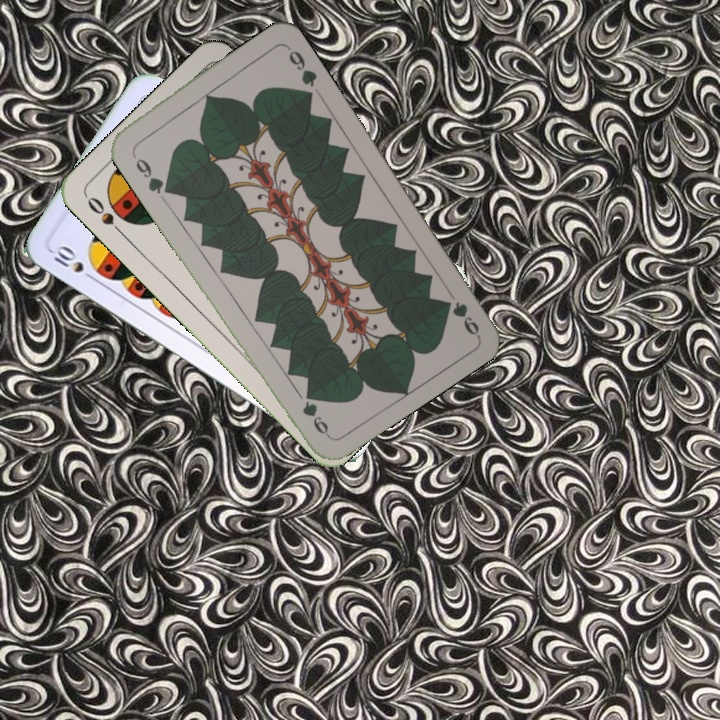G9: (127, 147, 171, 197), (440, 296, 482, 338)
S10: (49, 241, 99, 284)
SO: (81, 192, 127, 238)
